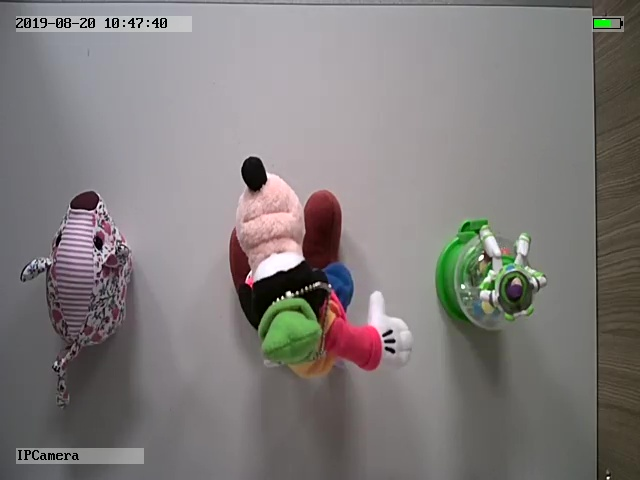buzz: (432, 215, 550, 335)
goofy: (221, 150, 414, 383)
pig: (20, 189, 137, 409)
